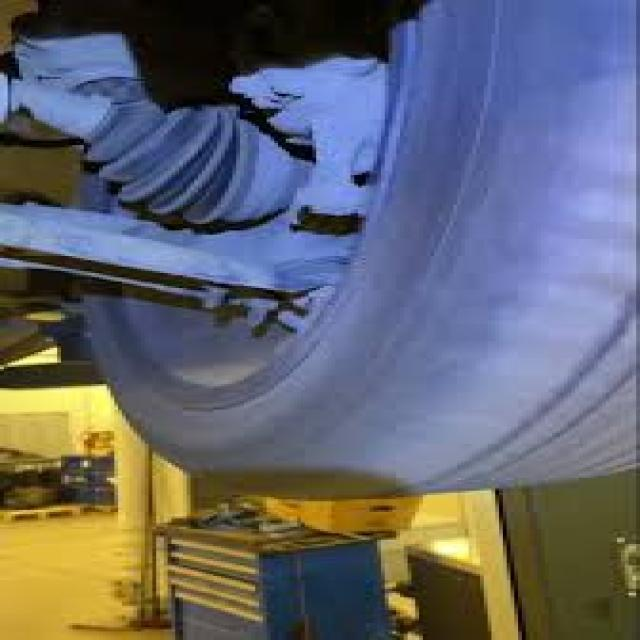Flat spots: (423, 7, 639, 470)
